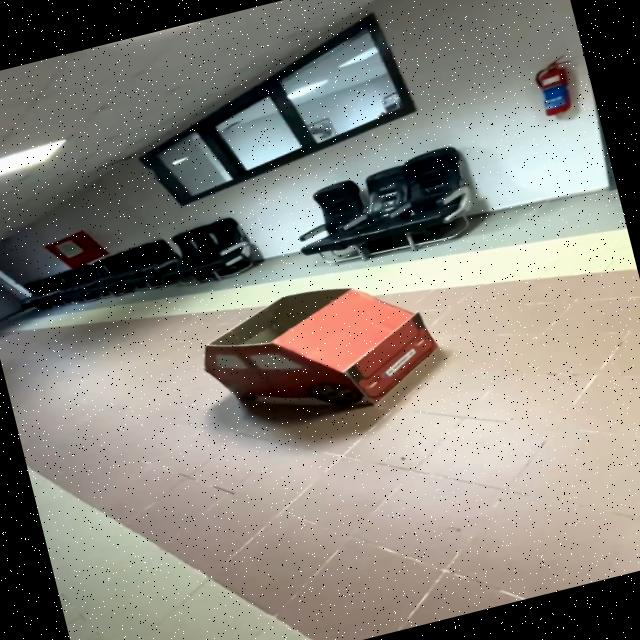red_car: (160, 235, 472, 490)
